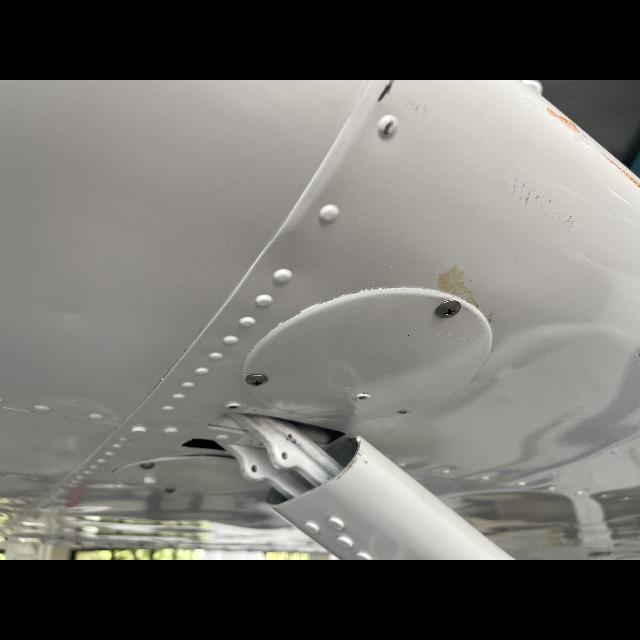Missing Fastener: (388, 404, 414, 416)
